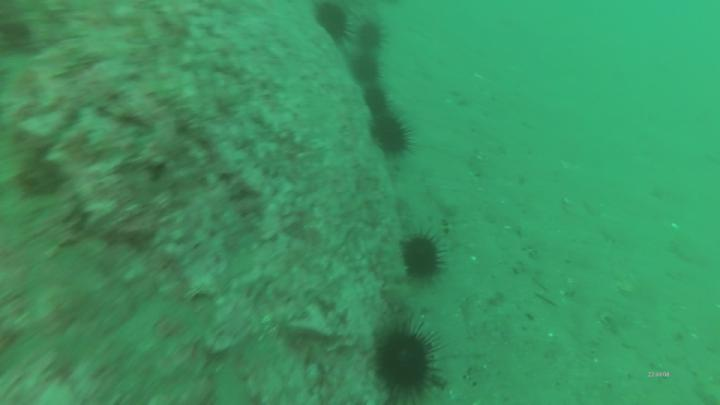echinus: (369, 322, 445, 403), (398, 223, 451, 284), (366, 112, 413, 160), (315, 3, 351, 46), (348, 51, 383, 92), (361, 85, 392, 118), (353, 23, 383, 54)
